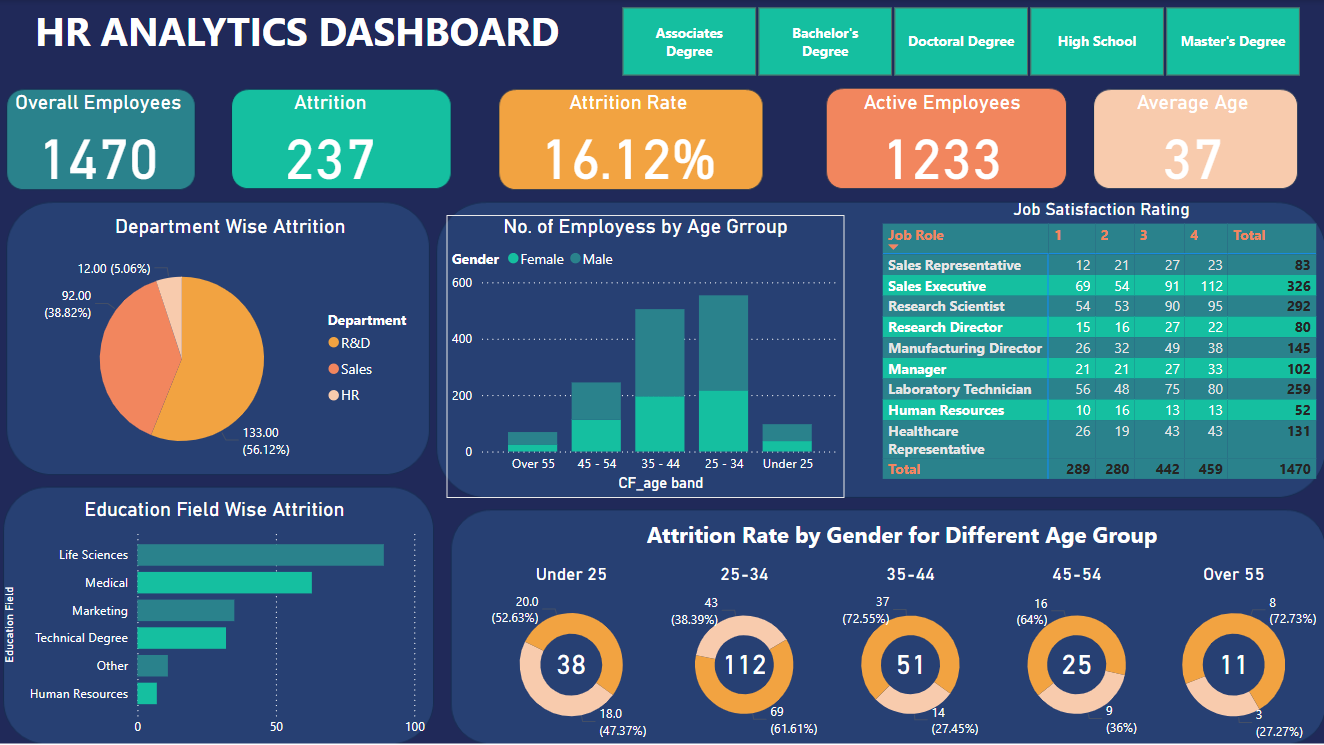

What the dashboard file says about the page in this screenshot:
{"tool":"powerbi","page":{"name":"Page 1","canvas":[1280,720],"ordinal":0},"visuals":[{"type":"card","title":"Overall Employees","fields":{"Values":["Sum(HR data.Employee Count)"]},"box":[0,88,191.8,95.3],"z":0},{"type":"card","title":"Attrition ","fields":{"Values":["Sum(HR data.Attrition Count)"]},"box":[223.6,88,193,95.3],"z":1000},{"type":"card","title":"Attrition Rate","fields":{"Values":["HR data.Attrition Rate"]},"box":[511.9,88,191.8,95.3],"z":2000},{"type":"card","title":"Active Employees","fields":{"Values":["HR data.Active Employees"]},"box":[814.8,88,191.8,95.3],"z":3000},{"type":"card","title":"Average Age","fields":{"Values":["Avg(HR data.Age)"]},"box":[1055.5,88,193,95.3],"z":4000},{"type":"pieChart","title":"Department Wise Attrition","fields":{"Category":["HR data.Department"],"Y":["Sum(HR data.Attrition Count)"]},"box":[31.8,207.7,383.6,256.5],"z":5000},{"type":"columnChart","title":"No. of Employess by Age Grroup","fields":{"Category":["HR data.CF_age band"],"Y":["Sum(HR data.Employee Count)"],"Series":["HR data.Gender"]},"box":[432,208,384,272],"z":6000},{"type":"pivotTable","title":"Job Satisfaction Rating","fields":{"Rows":["HR data.Job Role"],"Columns":["HR data.Job Satisfaction"],"Values":["Sum(HR data.Employee Count)"]},"box":[848,192,432,288],"z":7000},{"type":"clusteredBarChart","title":"Education Field Wise Attrition","fields":{"Category":["HR data.Education Field"],"Y":["Sum(HR data.Attrition Count)"]},"box":[0,480,416,240],"z":8000},{"type":"donutChart","title":"25-34","fields":{"Category":["HR data.Gender"],"Y":["Sum(HR data.Attrition Count)"],"Series":["HR data.CF_age band"]},"box":[640,544,160,176],"z":9000},{"type":"donutChart","title":"35-44","fields":{"Y":["Sum(HR data.Attrition Count)"],"Category":["HR data.Gender"],"Series":["HR data.CF_age band"]},"box":[800,544,160,176],"z":10000},{"type":"donutChart","title":"45-54","fields":{"Y":["Sum(HR data.Attrition Count)"],"Category":["HR data.Gender"],"Series":["HR data.CF_age band"]},"box":[960,544,160,176],"z":11000},{"type":"donutChart","title":"Over 55","fields":{"Y":["Sum(HR data.Attrition Count)"],"Category":["HR data.Gender"],"Series":["HR data.CF_age band"]},"box":[1104,544,176,176],"z":12000},{"type":"donutChart","title":"Under 25","fields":{"Category":["HR data.Gender"],"Y":["Sum(HR data.Attrition Count)"],"Series":["HR data.CF_age band"]},"box":[464,544,176,176],"z":13000},{"type":"textbox","box":[463.3,495.8,816.8,48.3],"z":14000},{"type":"card","fields":{"Values":["Sum(HR data.Attrition Count)"]},"box":[528,624,48,32],"z":15000},{"type":"card","fields":{"Values":["Sum(HR data.Attrition Count)"]},"box":[848,624,64,32],"z":16000},{"type":"card","fields":{"Values":["Sum(HR data.Attrition Count)"]},"box":[688,624,64,32],"z":17000},{"type":"card","fields":{"Values":["Sum(HR data.Attrition Count)"]},"box":[1008,624,64,32],"z":18000},{"type":"card","fields":{"Values":["Sum(HR data.Attrition Count)"]},"box":[1168,624,48,32],"z":19000},{"type":"slicer","fields":{"Values":["HR data.Education"]},"box":[576,0,704,80],"z":20000},{"type":"textbox","box":[16,0,544,64],"z":21000}]}

Visuals, with their boxes in screenshot pixels (x1, y1, x2, y2), scaled from the page's 1280x720 canvas onto the 1324x745 screenshot:
"Overall Employees" card: l=0, t=91, r=198, b=190
"Attrition " card: l=231, t=91, r=431, b=190
"Attrition Rate" card: l=529, t=91, r=728, b=190
"Active Employees" card: l=843, t=91, r=1041, b=190
"Average Age" card: l=1092, t=91, r=1291, b=190
"Department Wise Attrition" pieChart: l=33, t=215, r=430, b=480
"No. of Employess by Age Grroup" columnChart: l=447, t=215, r=844, b=497
"Job Satisfaction Rating" pivotTable: l=877, t=199, r=1323, b=497
"Education Field Wise Attrition" clusteredBarChart: l=0, t=497, r=430, b=744
"25-34" donutChart: l=662, t=563, r=828, b=744
"35-44" donutChart: l=828, t=563, r=993, b=744
"45-54" donutChart: l=993, t=563, r=1158, b=744
"Over 55" donutChart: l=1142, t=563, r=1323, b=744
"Under 25" donutChart: l=480, t=563, r=662, b=744
textbox: l=479, t=513, r=1323, b=563
card - Sum(HR data.Attrition Count): l=546, t=646, r=596, b=679
card - Sum(HR data.Attrition Count): l=877, t=646, r=943, b=679
card - Sum(HR data.Attrition Count): l=712, t=646, r=778, b=679
card - Sum(HR data.Attrition Count): l=1043, t=646, r=1109, b=679
card - Sum(HR data.Attrition Count): l=1208, t=646, r=1258, b=679
slicer - HR data.Education: l=596, t=0, r=1323, b=83
textbox: l=17, t=0, r=579, b=66
